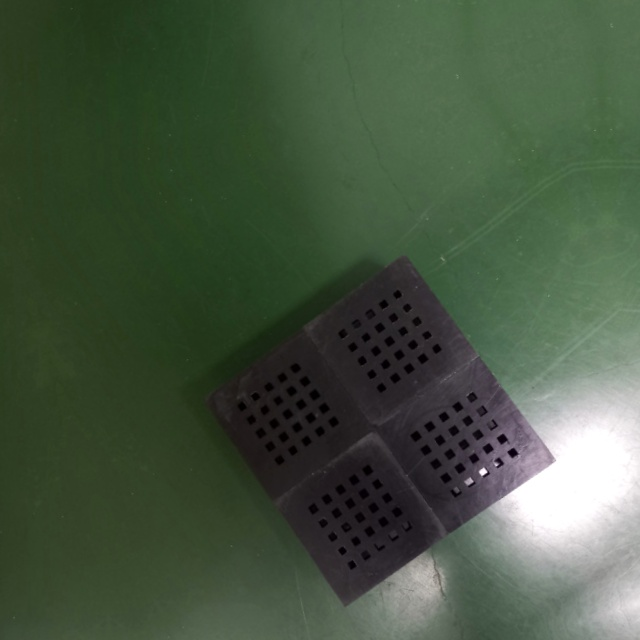pallet: (192, 246, 565, 620)
